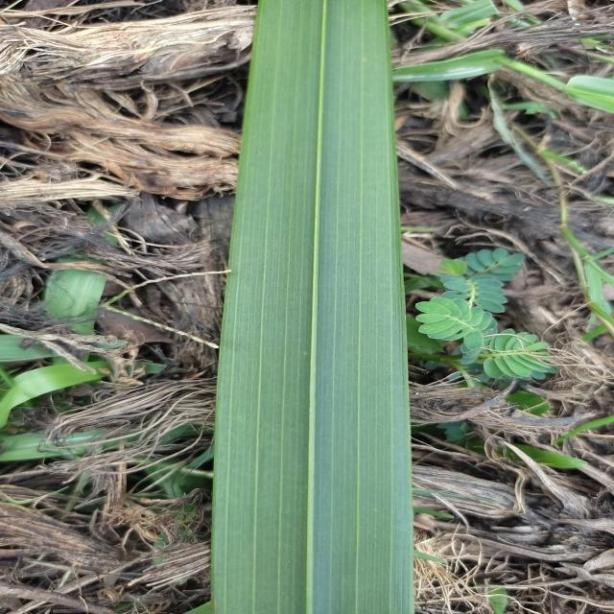Healthy: (211, 0, 413, 614)
